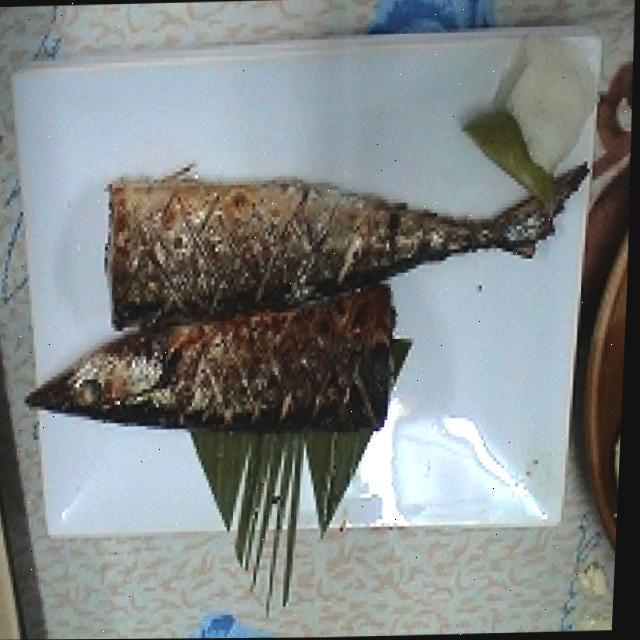熟制海鲜: (0, 158, 595, 458)
